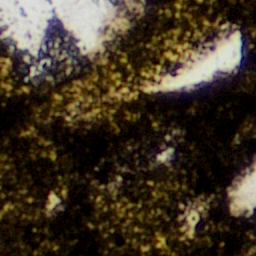cement_matrix: (0, 0, 255, 255), (141, 28, 243, 93), (183, 206, 200, 235), (113, 88, 132, 97), (158, 150, 170, 162), (48, 195, 58, 208)
gravel_crushed_stones: (0, 0, 140, 75), (142, 29, 242, 92), (230, 162, 255, 212), (184, 207, 199, 234), (114, 89, 131, 96), (159, 151, 169, 161), (49, 196, 57, 207)
